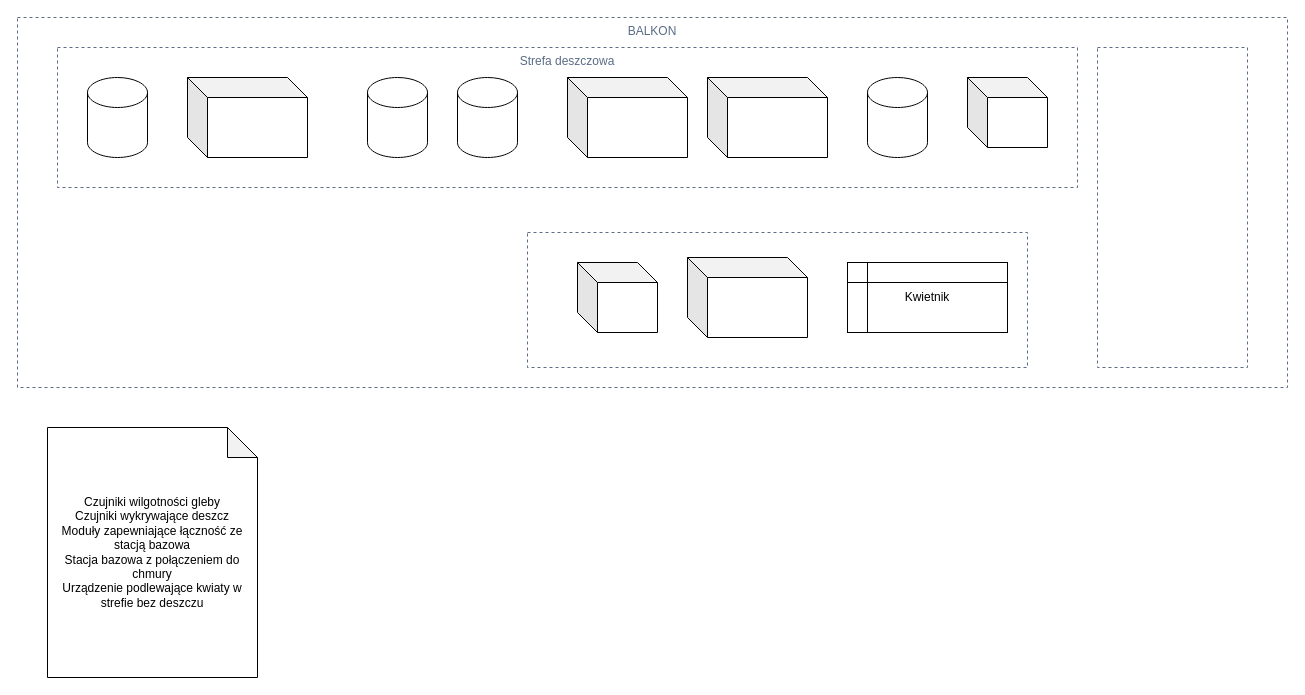
Image size: 1305x695. Some labels were removed from this diagram. Here are the shapes that lost their labels. From the top down, the box of each, then its label:
(1096, 46, 1248, 368): Narzędzia, inne
(526, 232, 1028, 368): Strefa bez deszczu
